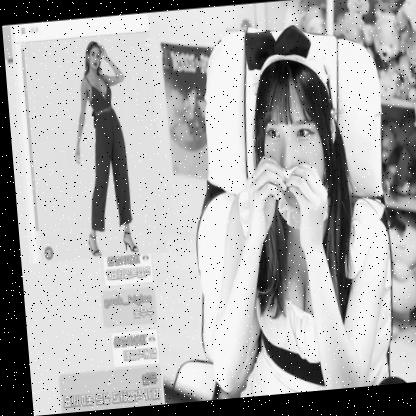streamer: (184, 23, 395, 403)
